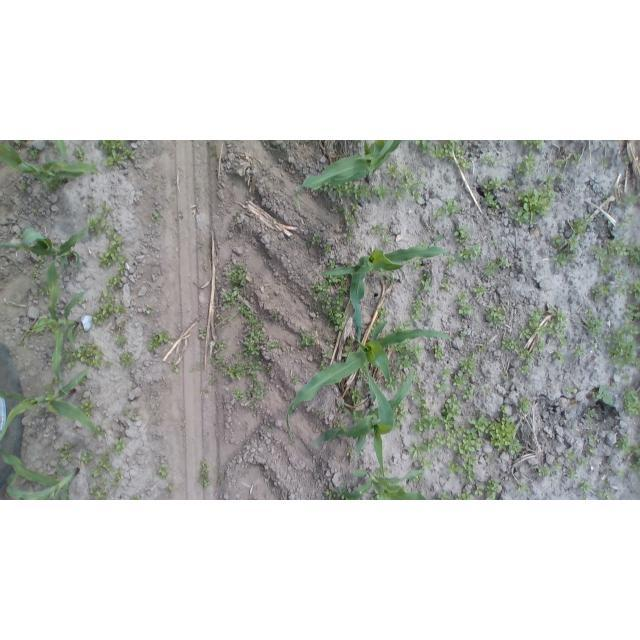Maize: (289, 322, 448, 442), (321, 246, 473, 344), (310, 369, 416, 479), (295, 140, 402, 210), (33, 255, 87, 393), (1, 370, 104, 442), (1, 141, 106, 184), (1, 447, 80, 499), (0, 224, 90, 268), (343, 467, 429, 499)
Weeds: (511, 187, 557, 226), (322, 277, 347, 332), (608, 323, 638, 368), (240, 303, 264, 357), (432, 141, 472, 170), (489, 416, 517, 451), (412, 400, 440, 432), (335, 183, 387, 199), (98, 232, 122, 266), (400, 167, 424, 201), (441, 393, 462, 431), (397, 341, 424, 369), (106, 254, 127, 288), (73, 345, 104, 368), (371, 220, 397, 247), (483, 176, 502, 210), (247, 380, 268, 409), (94, 302, 123, 322), (393, 403, 412, 433), (460, 454, 478, 483), (456, 434, 482, 454), (518, 349, 537, 374), (571, 214, 593, 235), (516, 150, 535, 174), (322, 484, 350, 500), (526, 309, 543, 335), (412, 372, 429, 398), (59, 439, 78, 462), (429, 434, 456, 450), (226, 361, 247, 381), (590, 283, 612, 302), (314, 348, 332, 371), (624, 389, 639, 416), (221, 286, 240, 307), (469, 414, 490, 433), (459, 243, 481, 261), (486, 477, 503, 500), (456, 294, 472, 318), (487, 306, 505, 327), (459, 352, 477, 373), (344, 210, 356, 241), (607, 239, 630, 255), (629, 443, 640, 476), (149, 332, 168, 351), (545, 319, 564, 338), (620, 302, 640, 320), (596, 260, 617, 277), (439, 273, 455, 295), (597, 384, 614, 404), (542, 174, 567, 187), (409, 441, 428, 458), (109, 466, 123, 489), (533, 330, 549, 350), (519, 396, 534, 417), (310, 280, 323, 304), (627, 244, 640, 268), (586, 318, 604, 335), (230, 265, 246, 284), (350, 389, 366, 408), (502, 339, 522, 354), (201, 461, 212, 488), (554, 252, 572, 268), (33, 258, 46, 280), (98, 199, 117, 214), (455, 223, 470, 242), (98, 140, 126, 150), (98, 289, 118, 303), (99, 450, 113, 470), (535, 462, 552, 478), (591, 246, 607, 263), (444, 460, 460, 477), (483, 151, 498, 169), (248, 357, 263, 375), (445, 199, 462, 214), (484, 261, 499, 278), (552, 233, 566, 251), (390, 320, 411, 332), (420, 272, 432, 293), (520, 140, 545, 150), (453, 373, 469, 388), (84, 195, 98, 212), (80, 448, 93, 466), (428, 300, 439, 321), (413, 299, 424, 320), (373, 464, 392, 476), (299, 332, 314, 347), (90, 485, 106, 499), (150, 211, 164, 227), (377, 306, 390, 323), (578, 481, 596, 493), (598, 488, 616, 500), (50, 181, 65, 195), (415, 140, 430, 154), (336, 400, 350, 415), (385, 161, 398, 177), (73, 145, 86, 161), (435, 489, 453, 500), (515, 479, 529, 493), (556, 309, 569, 324), (115, 438, 128, 453), (87, 217, 102, 230), (584, 443, 597, 458), (383, 272, 400, 283), (570, 152, 584, 165), (392, 187, 405, 201), (617, 435, 630, 449), (600, 155, 612, 170), (107, 152, 122, 164), (455, 490, 473, 500), (352, 410, 364, 425), (585, 407, 596, 423), (615, 268, 628, 281), (124, 149, 137, 162), (478, 338, 491, 351), (120, 353, 133, 366), (472, 285, 486, 297), (496, 399, 508, 413), (578, 453, 590, 467), (436, 380, 450, 392), (332, 417, 346, 429), (591, 336, 602, 351), (65, 354, 76, 369), (324, 335, 340, 345), (629, 280, 639, 296), (326, 258, 338, 271), (564, 451, 577, 463), (572, 343, 585, 355), (420, 459, 433, 471), (461, 389, 475, 400), (385, 377, 396, 391), (214, 355, 225, 369), (569, 234, 580, 248), (272, 307, 282, 322), (567, 465, 577, 480), (433, 344, 443, 359), (498, 256, 510, 268), (97, 425, 109, 437), (166, 483, 178, 495), (239, 420, 251, 432), (444, 255, 456, 267), (558, 337, 571, 348), (214, 341, 227, 352), (81, 398, 91, 412), (518, 329, 530, 340), (214, 475, 226, 486), (442, 365, 453, 377), (28, 148, 39, 160), (117, 332, 127, 345), (408, 392, 421, 402), (626, 213, 637, 224), (504, 200, 514, 212), (553, 349, 563, 361), (625, 194, 637, 204), (215, 312, 225, 324), (474, 484, 484, 496), (199, 328, 208, 341), (618, 283, 627, 296), (413, 476, 427, 484), (345, 449, 356, 459), (432, 209, 442, 220), (554, 157, 564, 168), (481, 386, 491, 397), (619, 374, 631, 383), (158, 465, 167, 477), (45, 385, 57, 394), (312, 233, 321, 245), (586, 433, 598, 442), (343, 345, 351, 358), (268, 340, 281, 348), (233, 388, 243, 398), (18, 181, 28, 191), (91, 468, 101, 478), (585, 307, 594, 318), (130, 409, 139, 420), (554, 460, 563, 471), (358, 369, 367, 380), (171, 363, 179, 375), (41, 284, 49, 296), (506, 178, 515, 188), (76, 326, 85, 336), (292, 375, 301, 385), (622, 154, 630, 165), (15, 232, 26, 240), (122, 405, 130, 416), (233, 351, 241, 362), (488, 240, 500, 247), (414, 261, 423, 270), (146, 307, 155, 316), (316, 407, 324, 417), (21, 331, 31, 339), (485, 454, 493, 464), (499, 157, 506, 168), (323, 244, 331, 253), (323, 182, 330, 192), (102, 221, 112, 228), (199, 389, 209, 396), (397, 375, 407, 382), (100, 158, 108, 166), (357, 243, 364, 252), (209, 380, 219, 386), (420, 241, 430, 247), (459, 329, 465, 339), (351, 201, 358, 209), (131, 493, 139, 500), (616, 469, 625, 475), (545, 433, 551, 442), (567, 387, 574, 394), (601, 195, 609, 201), (89, 159, 97, 165), (48, 325, 55, 331), (106, 361, 112, 368), (370, 324, 376, 331), (81, 378, 87, 384), (53, 379, 60, 384), (100, 479, 106, 484), (31, 210, 37, 213)
